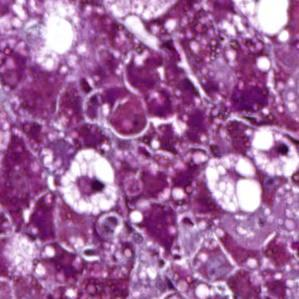ballooning: (59, 147, 120, 218), (203, 152, 262, 216), (247, 126, 299, 181)
